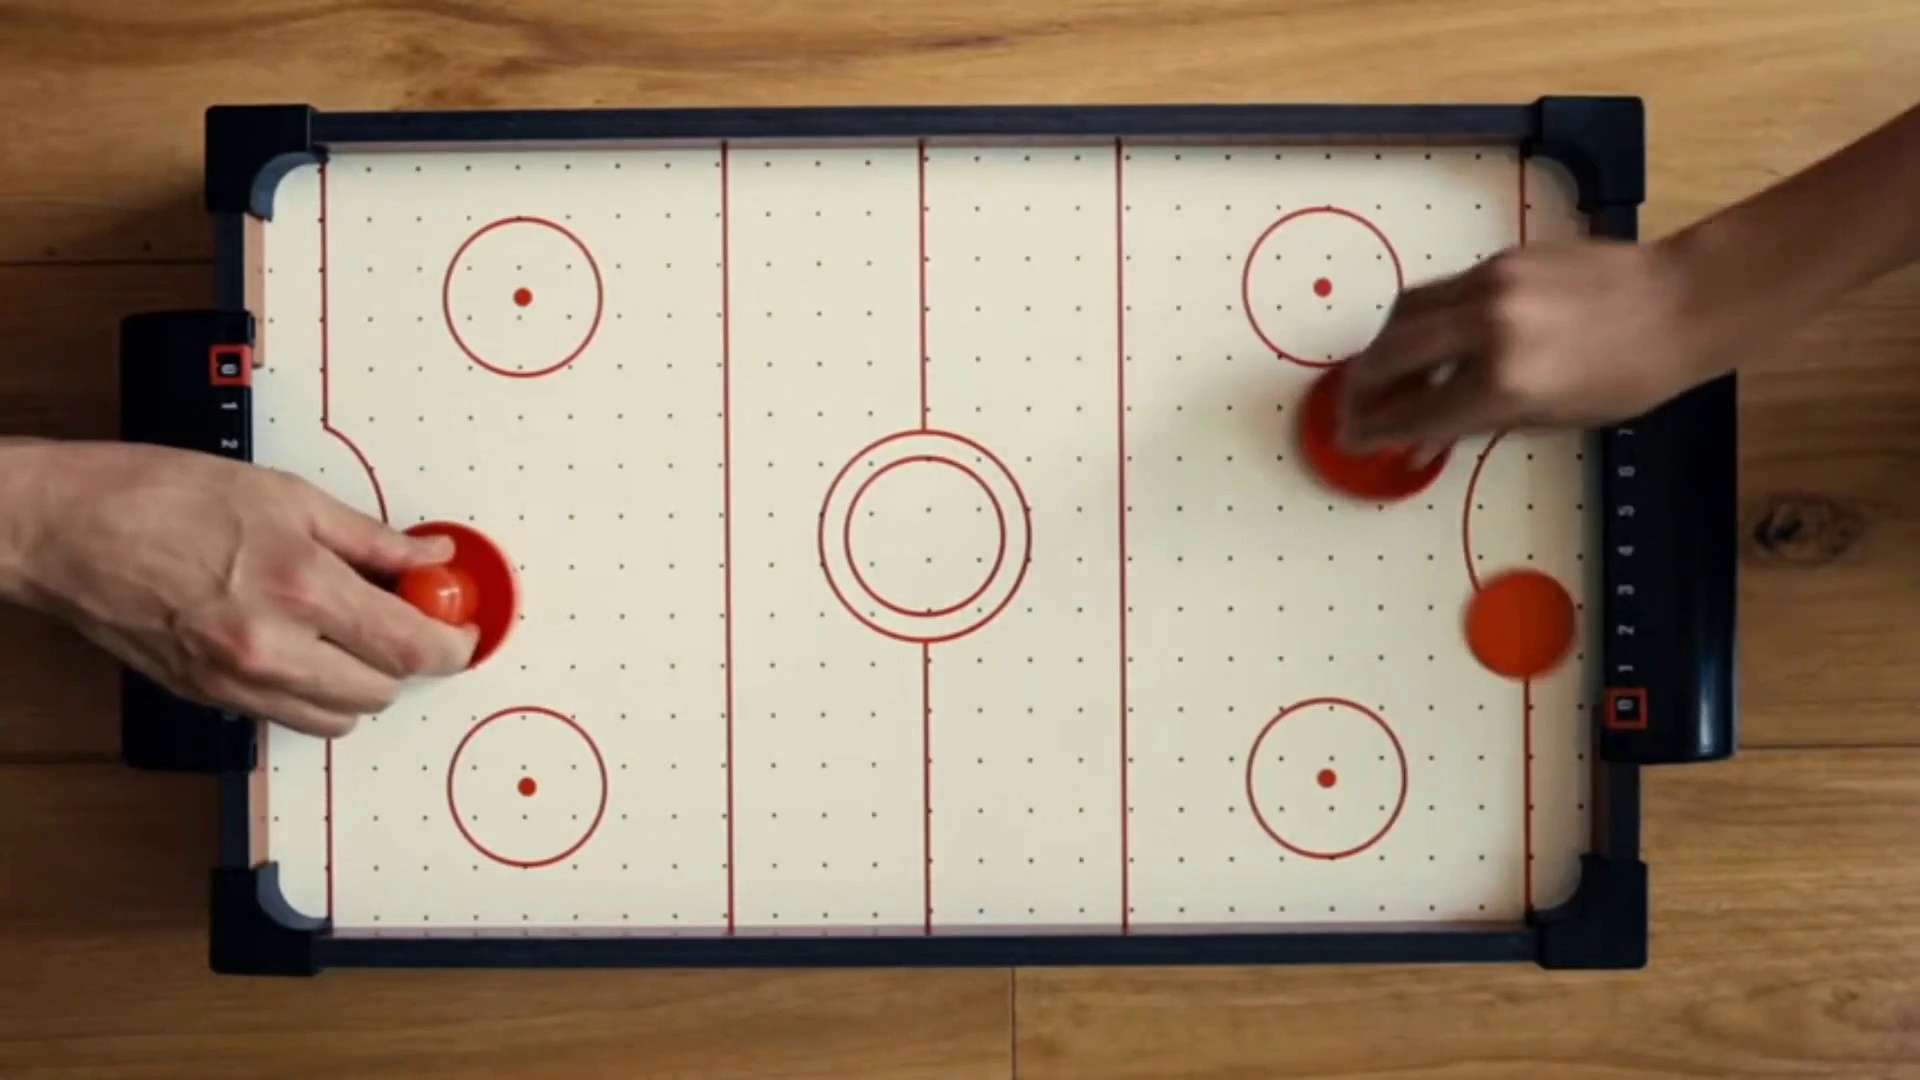player1: (359, 519, 524, 674)
player2: (1292, 363, 1446, 502)
puck: (1461, 565, 1578, 684)
table: (261, 145, 1580, 917)
